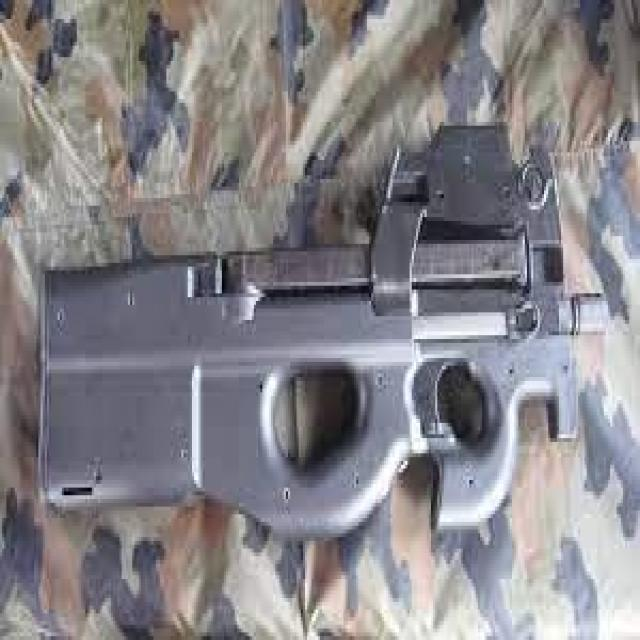Gun: (21, 157, 640, 536)
